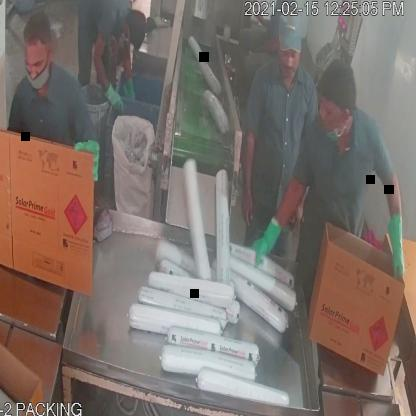glove: (245, 202, 282, 274), (382, 202, 412, 286)
no_glove: (238, 117, 258, 230), (92, 32, 108, 91)
